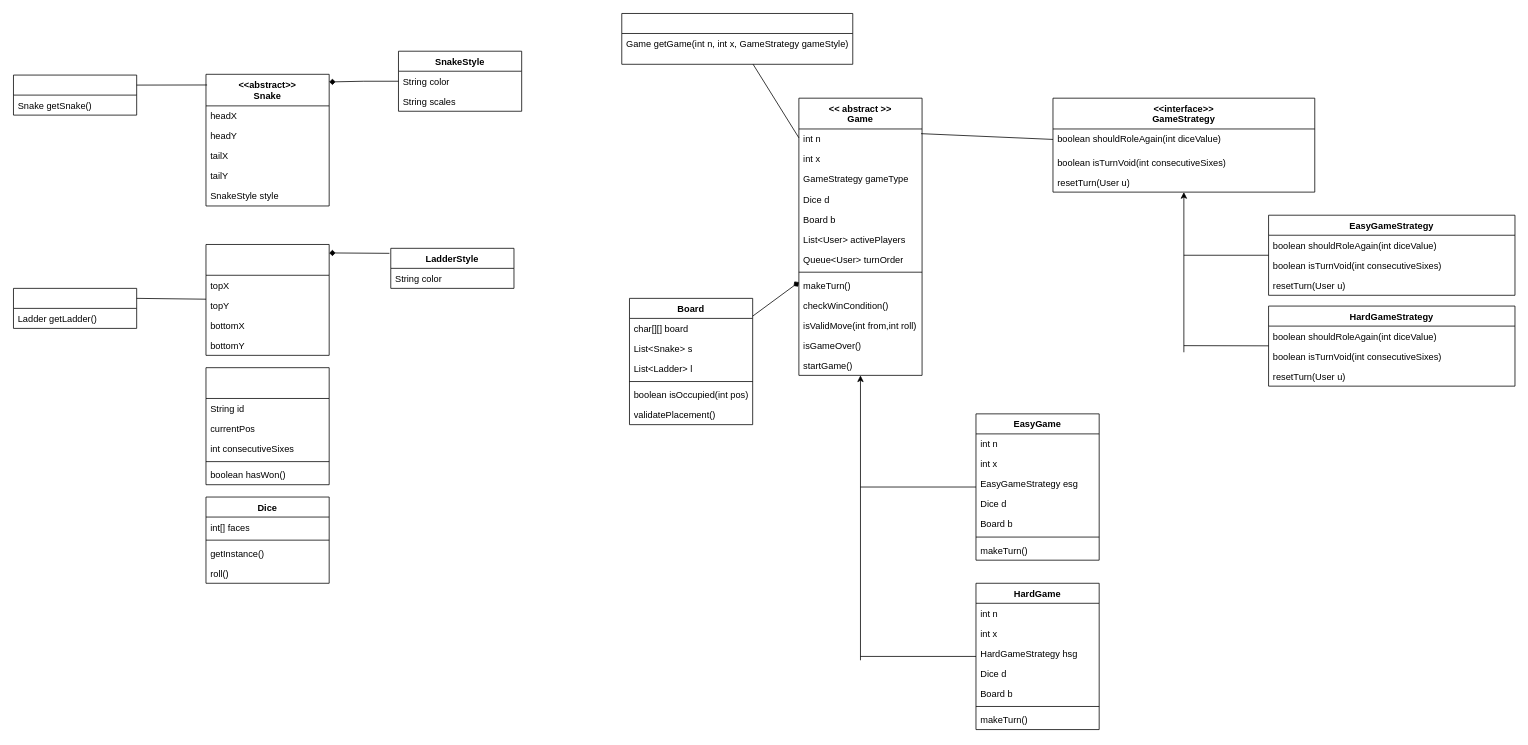
This 1528x745 diagram has some shape labels left out. Here are the shapes that lost their labels. From the top down, the box of each, then its label:
(621, 13, 853, 64): GameFactory
(13, 74, 137, 115): SnakeFactory
(13, 288, 137, 328): LadderFactory
(205, 244, 329, 355): <<abstract>> Ladder
(205, 367, 329, 485): <<abstract>> User
